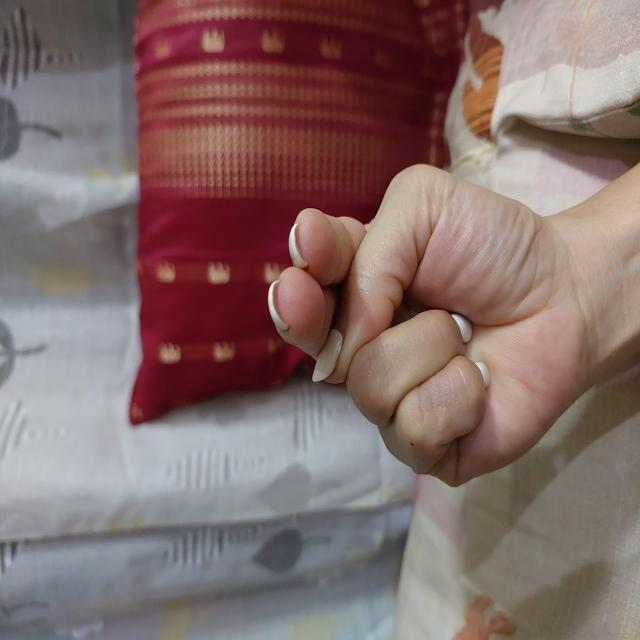N: (148, 265, 481, 584)
